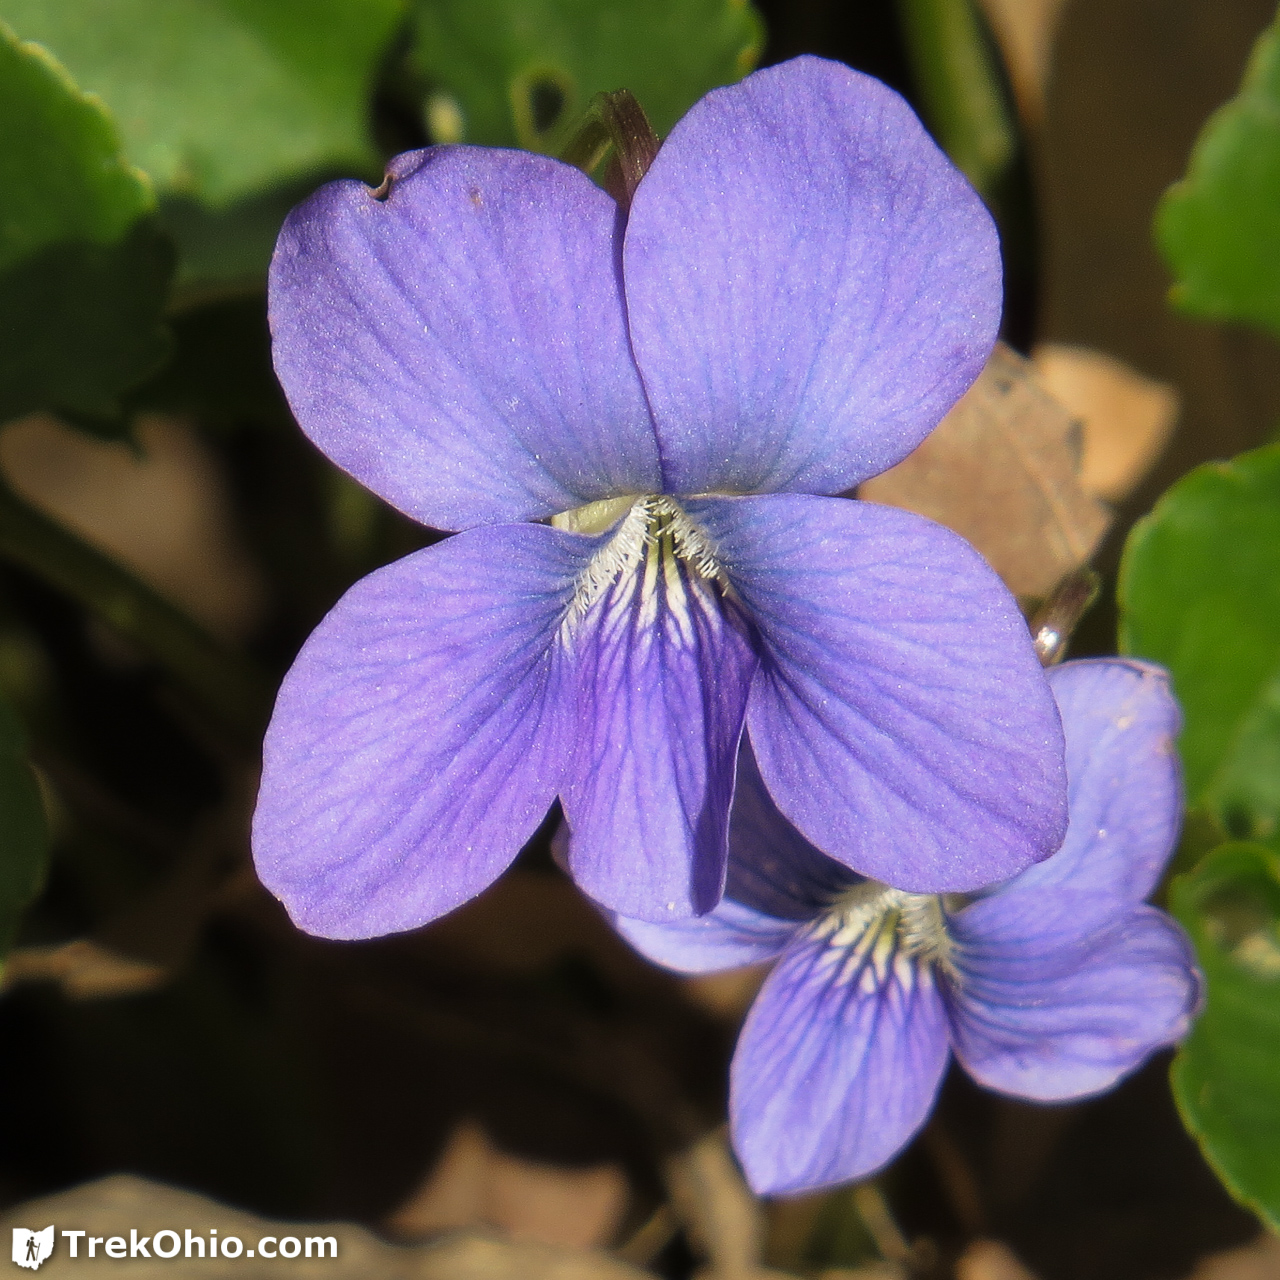violet: (248, 109, 1160, 891)
